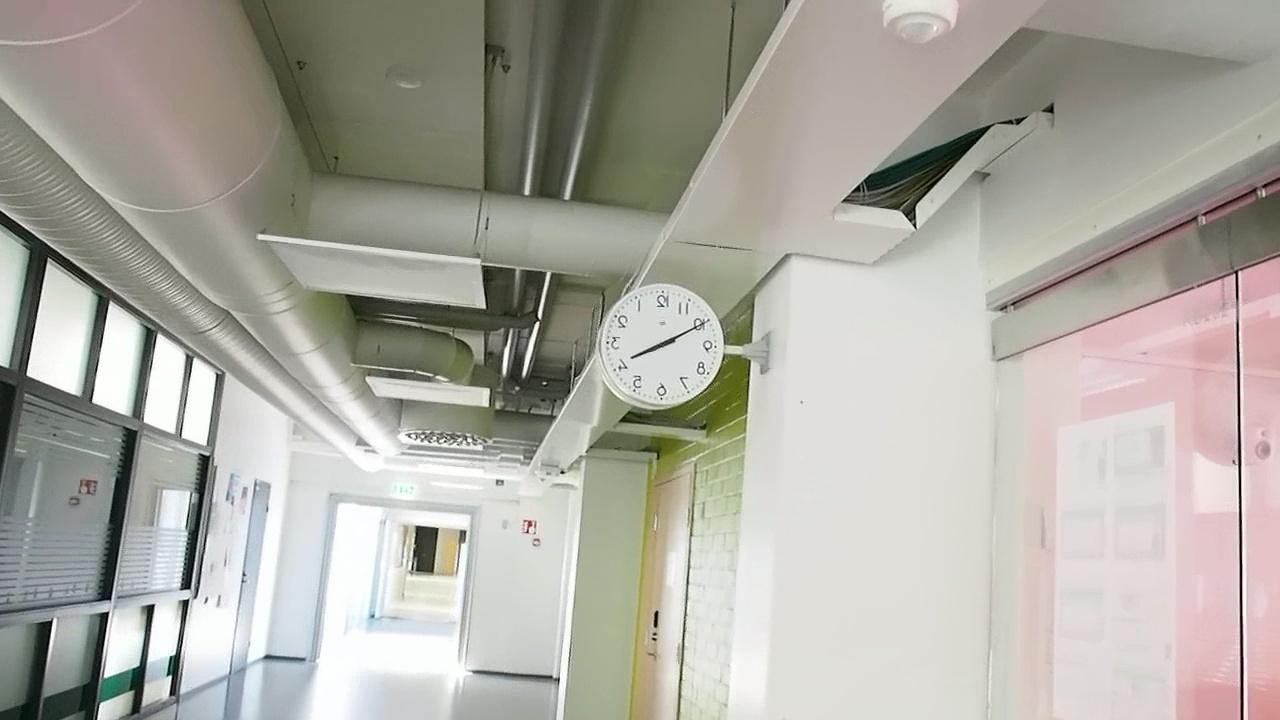clock: (593, 284, 728, 417)
